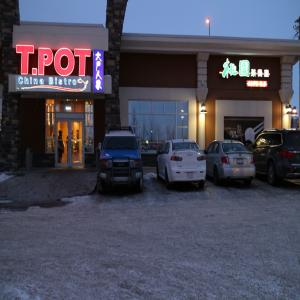Vehicle-registration-plate: (239, 161, 245, 165)
